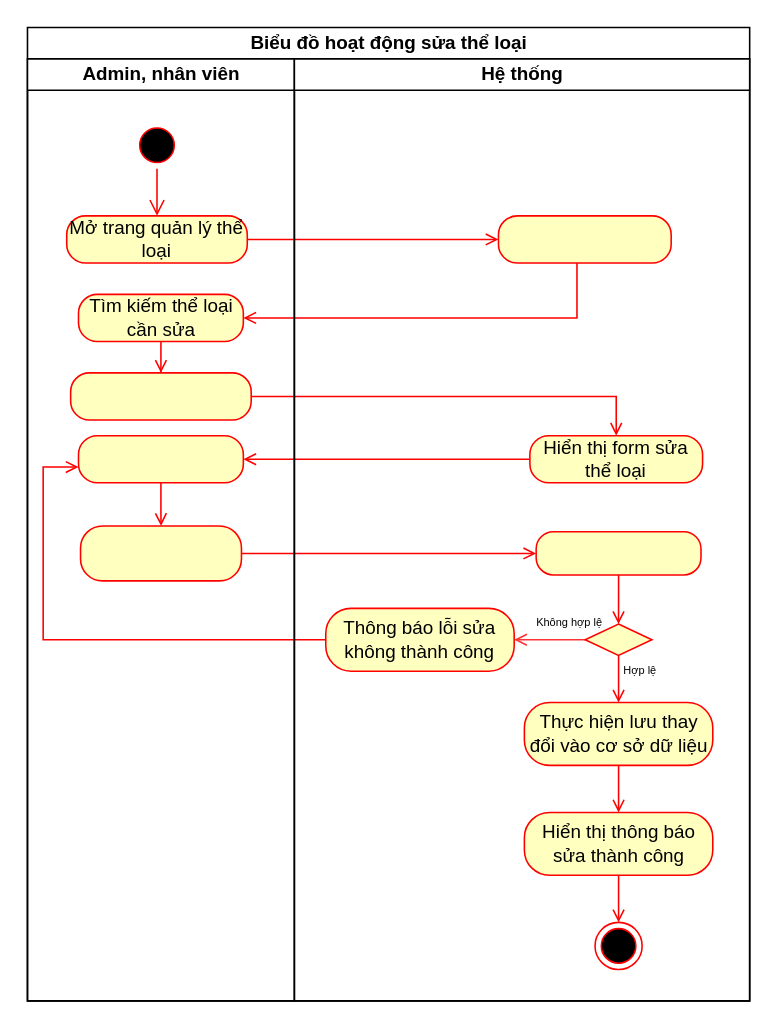
This 777x1028 diagram has some shape labels left out. Here are the shapes that lost their labels. From the top down, the centre of each, then its label:
pixel 584 238: Hiển thị trang quản lý thể loại
pixel 160 395: Chọn thể loại cần sửa
pixel 160 458: Nhập thông tin muốn sửa
pixel 160 552: Click nút "lưu thay đổi"
pixel 618 552: Kiểm tra thông tin
